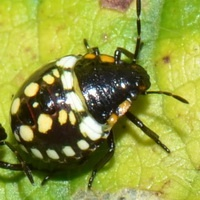insect: (92, 0, 199, 199)
